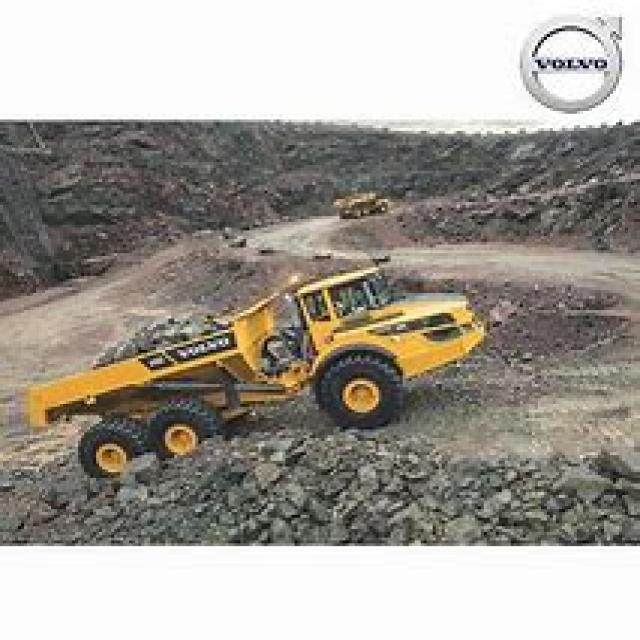dump_truck: (27, 264, 493, 486)
